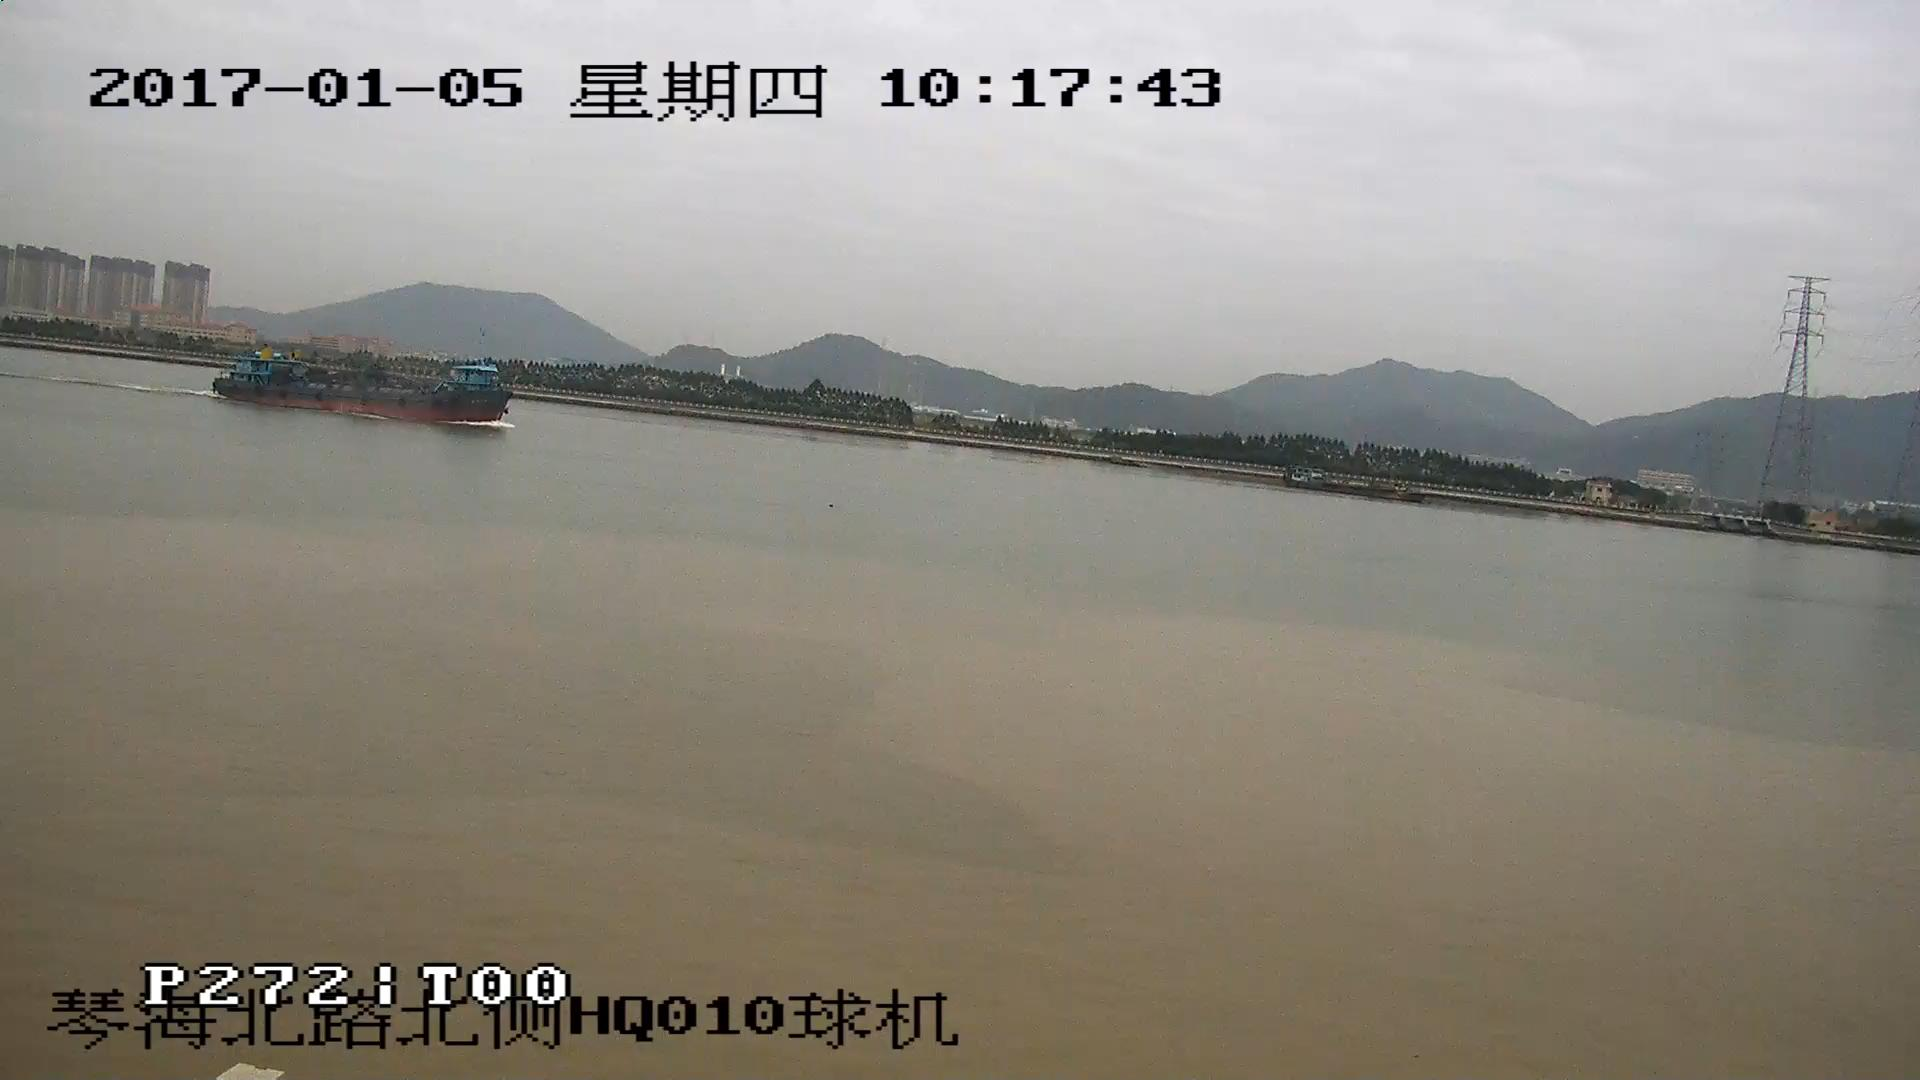bulk cargo carrier: (216, 346, 514, 424)
